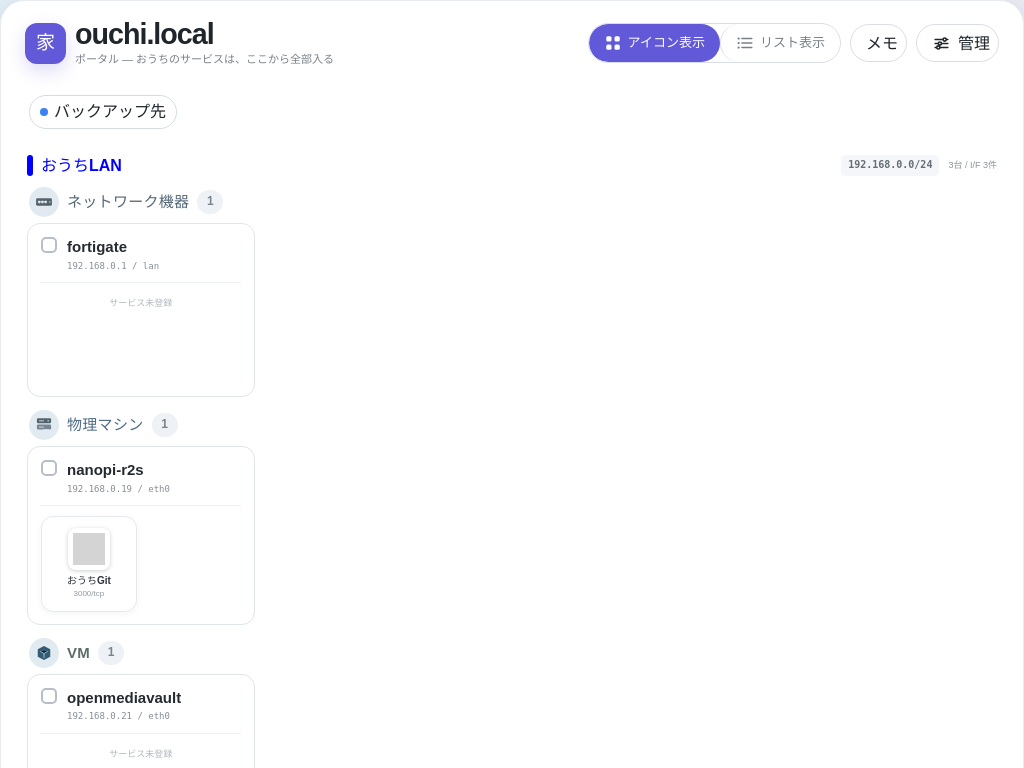
OuchiPortal › shows API-backed management text and no localStorage copy
What coordinates should you click on to do the following:
click the button "管理"
I would click on:
 (958, 43)
Its box is 916,24 -> 999,62.
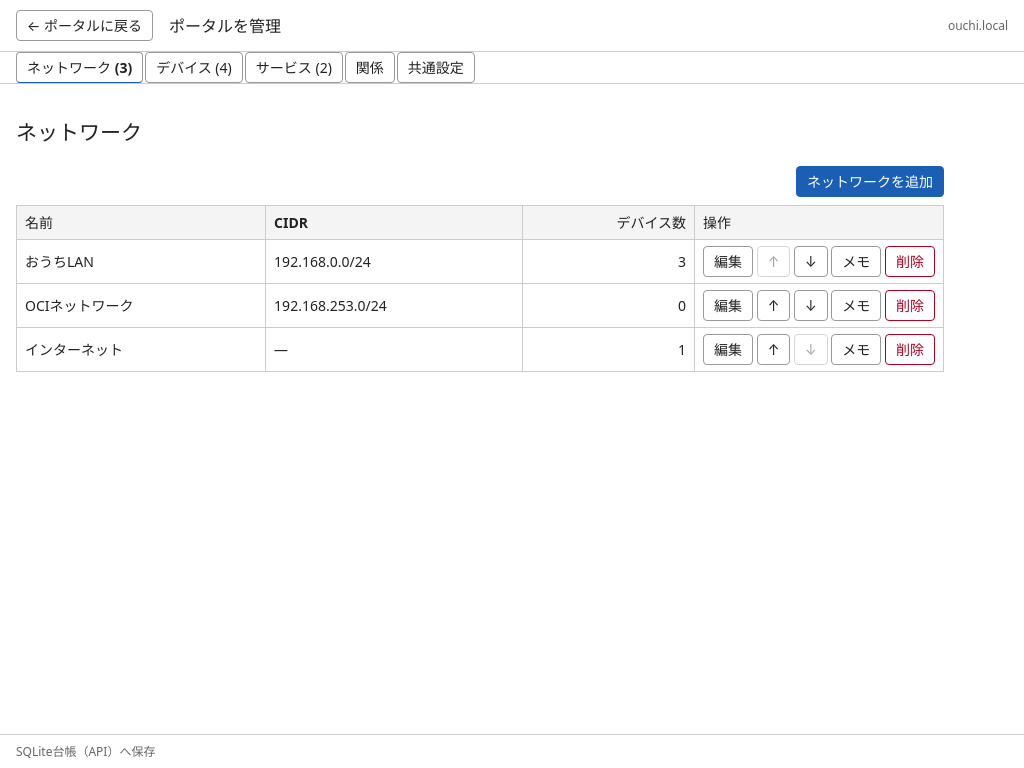
Expected: the text "SQLite台帳（API）へ保存" is shown, 0,734 -> 1023,767
